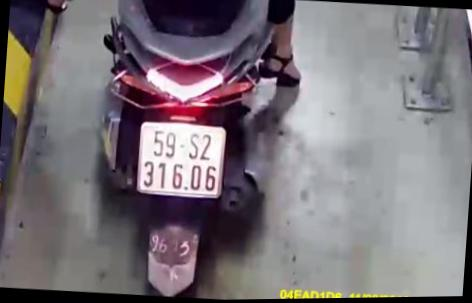LP: (134, 117, 228, 201)
